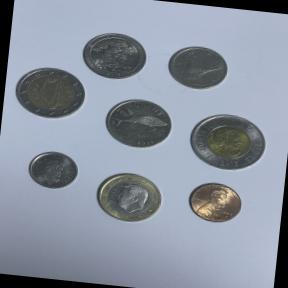coin: (180, 104, 274, 182), (87, 164, 172, 230), (98, 91, 179, 158), (12, 62, 89, 125), (78, 27, 154, 85), (180, 177, 250, 232), (22, 145, 84, 196)
